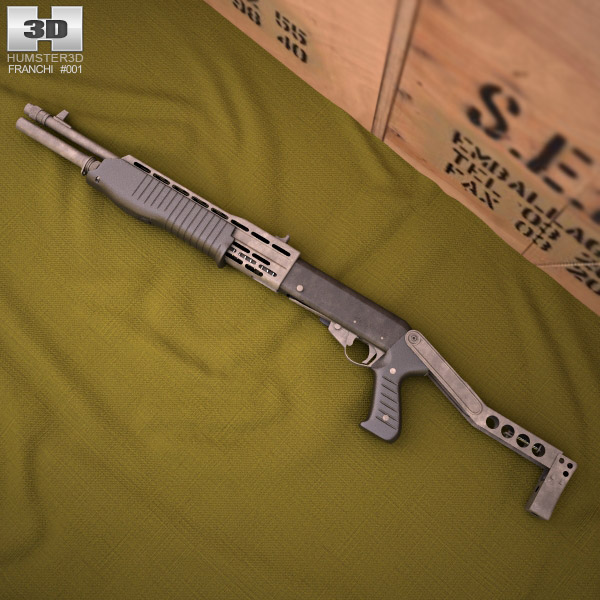weapon: (13, 103, 579, 522)
